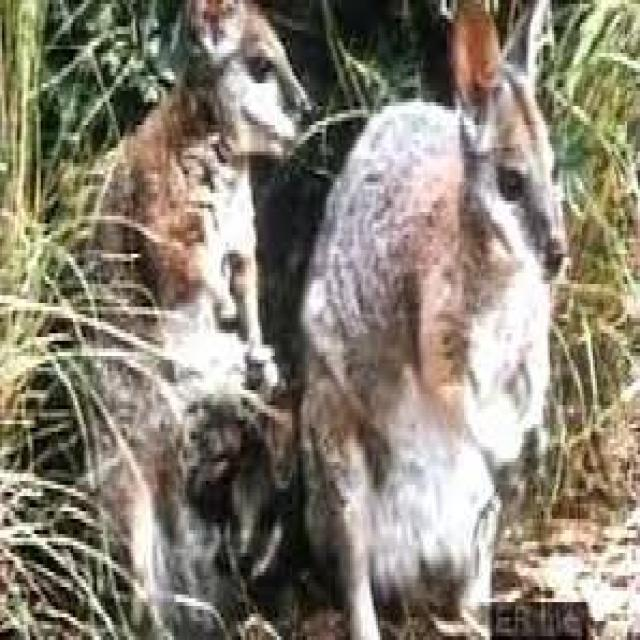Kangaroo: (308, 0, 574, 640), (72, 1, 306, 588)
